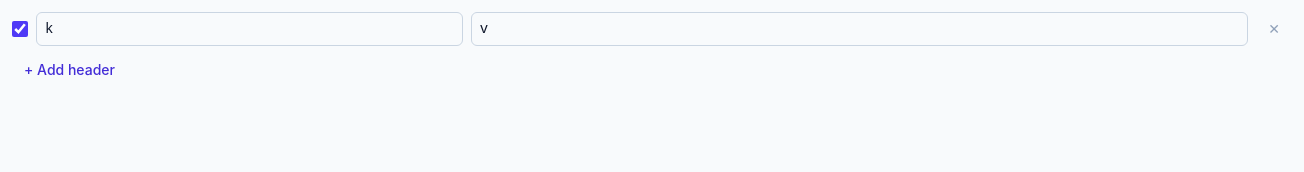
KeyValueEditor › disables a row via its checkbox
Click the checkbox named "Enable header 1". click: coordinates (20, 29)
box: [12, 21, 28, 37]
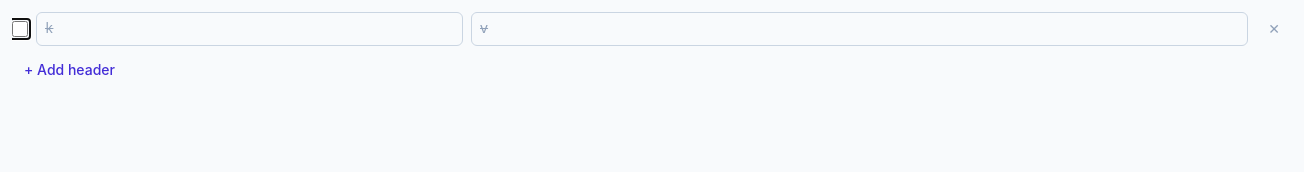
Result: the checkbox named "Enable header 1" is not checked at [12, 21, 28, 37]
